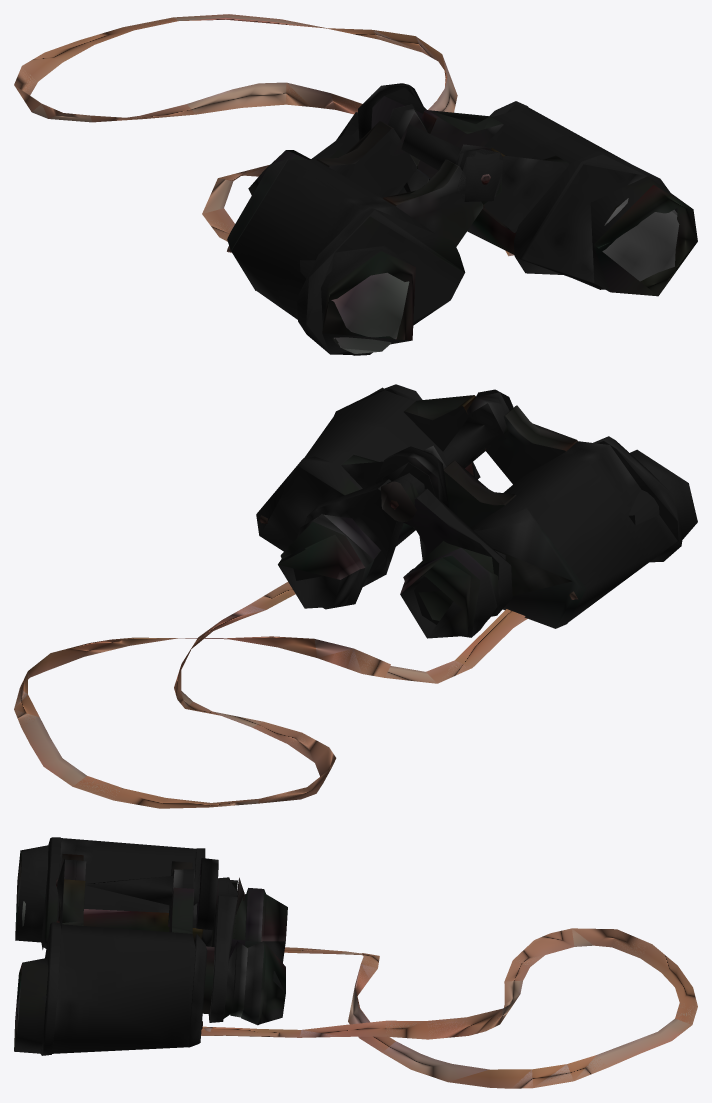
The model's file is design-binoculars.glb.
3 views of the same model, one above another, from view 1: azimuth 30°, elevation 25°; view 2: azimuth 150°, elevation 25°; view 3: azimuth 270°, elevation 25° (orthographic). The views are drawn at different scales.
Visible parts, largest first — view 1: binoculars_left, binoculars_strap; view 2: binoculars_left, binoculars_strap; view 3: binoculars_left, binoculars_strap.
Part boxes in pixels (bbox=[...]): binoculars_left: bbox=[227, 83, 697, 355]; binoculars_strap: bbox=[14, 14, 513, 256]; binoculars_left: bbox=[256, 384, 697, 638]; binoculars_strap: bbox=[14, 582, 527, 808]; binoculars_left: bbox=[14, 837, 287, 1055]; binoculars_strap: bbox=[201, 928, 697, 1088].
Bounding box in the file's own units: 0.1663 × 0.0658 × 0.2861.
Materials: 2 (2 with a texture image).
